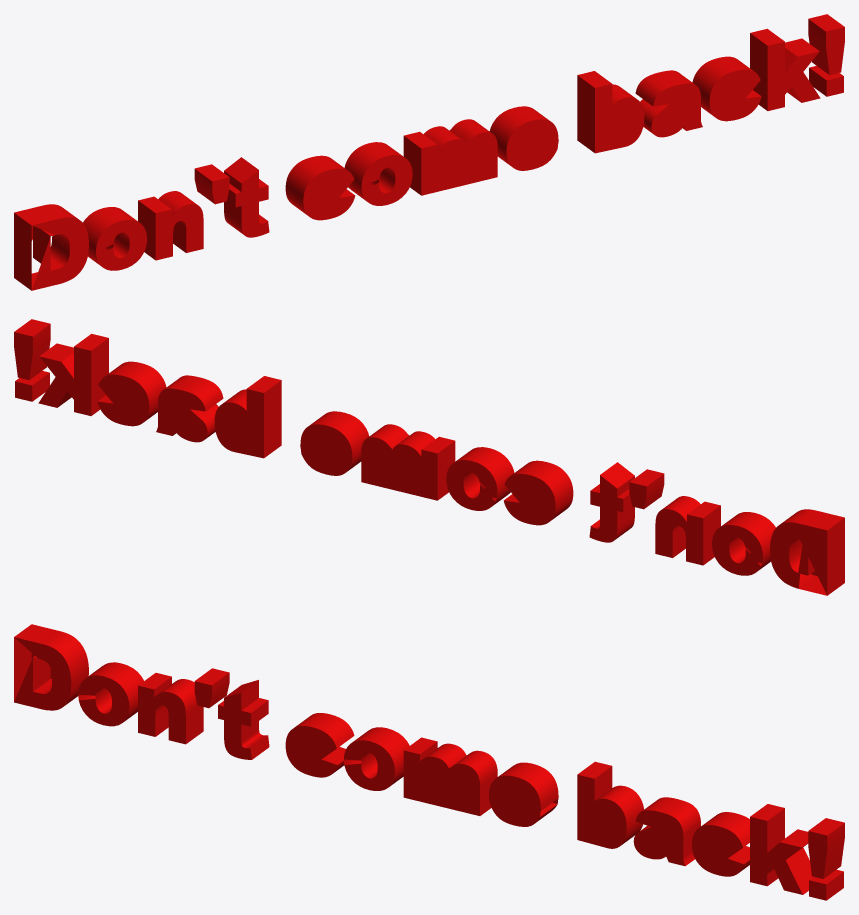
Rendered from Don't Come Back!.fbx.
3 renders of one model, top to bottom at view 1: azimuth 30°, elevation 25°; view 2: azimuth 150°, elevation 25°; view 3: azimuth 330°, elevation 25°, orthographic.
Visible parts, largest first — view 1: typeMesh1; view 2: typeMesh1; view 3: typeMesh1.
Part boxes in pixels (x1,y1,x2,y2): typeMesh1: (14,14,844,290); typeMesh1: (14,319,844,595); typeMesh1: (14,624,844,900).
Size of the model in its own units: 66.45 by 5.18 by 2.5.
